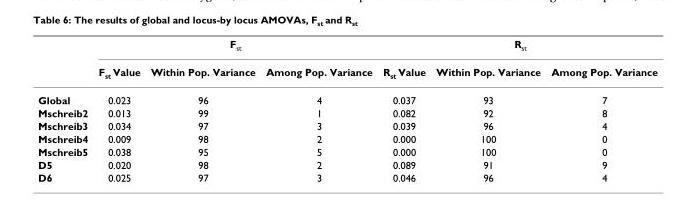table: (37, 37, 656, 183)
table column: (260, 37, 377, 183), (144, 37, 260, 183), (430, 37, 545, 183), (545, 37, 656, 183), (37, 37, 92, 183), (377, 37, 430, 183), (92, 37, 144, 183)
table column header: (37, 37, 656, 86)
table row: (37, 58, 656, 86), (37, 37, 656, 58), (37, 86, 656, 106), (37, 106, 656, 119), (37, 131, 656, 144), (37, 144, 656, 157), (37, 157, 656, 170), (37, 170, 656, 183), (37, 119, 656, 131)
table spanning cell: (92, 37, 377, 58), (377, 37, 656, 58)
